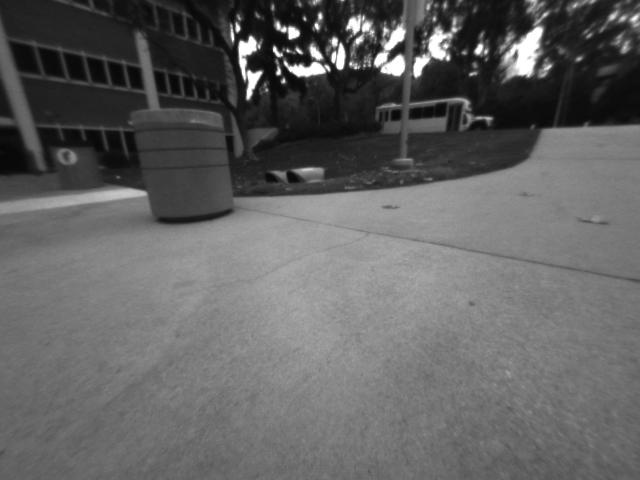trashcan: (129, 112, 235, 223), (51, 139, 106, 191)
